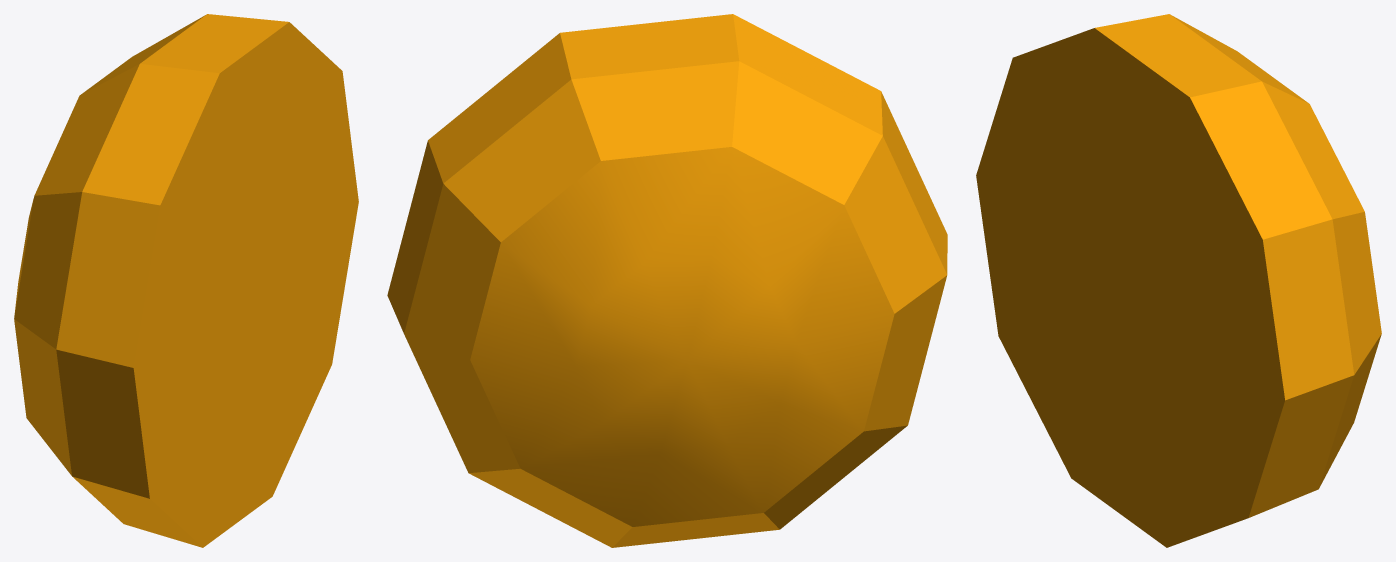
File: EM_Lamp.obj
The picture shows the model from 3 angles, left to right: view 1: azimuth 30°, elevation 25°; view 2: azimuth 150°, elevation 25°; view 3: azimuth 270°, elevation 25°; orthographic projection. The views are drawn at different scales.
Visible parts, largest first — view 1: EM_Lamp; view 2: EM_Lamp; view 3: EM_Lamp.
Boxes of the visible parts, bbox=[...] form: EM_Lamp: bbox=[14, 14, 358, 547]; EM_Lamp: bbox=[387, 14, 947, 547]; EM_Lamp: bbox=[976, 14, 1381, 547].
Bounding box in the file's own units: 1.19 × 1.28 × 0.991.
